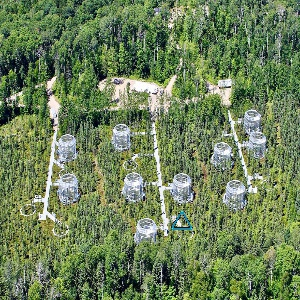triangle: (169, 206, 193, 232)
